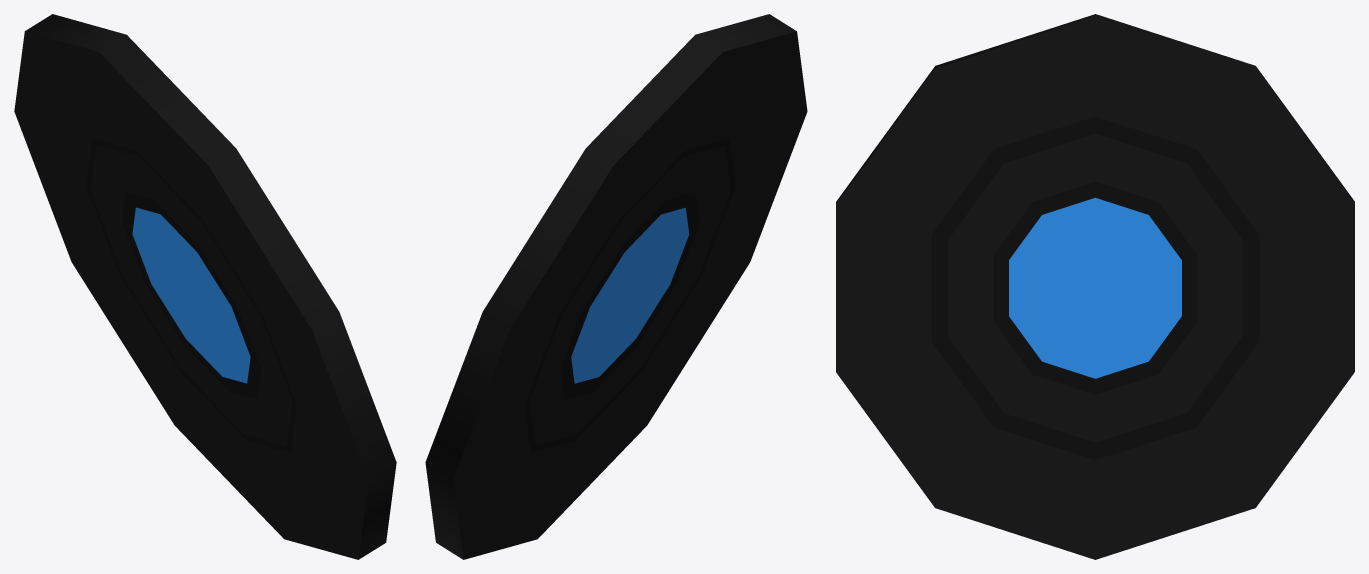
File: Vinyl_Blue_Angled.FBX
3 renders of one model, left to right at view 1: azimuth 30°, elevation 25°; view 2: azimuth 150°, elevation 25°; view 3: azimuth 270°, elevation 25°, orthographic. The views are drawn at different scales.
Parts seen in each view (by area): view 1: Vinyl_Blue001; view 2: Vinyl_Blue001; view 3: Vinyl_Blue001.
Part boxes in pixels (<box>): Vinyl_Blue001: <box>14,14,396,559</box>; Vinyl_Blue001: <box>425,14,807,559</box>; Vinyl_Blue001: <box>836,14,1354,559</box>.
Size of the model in its own units: 32.5 by 79.21 by 78.63.
